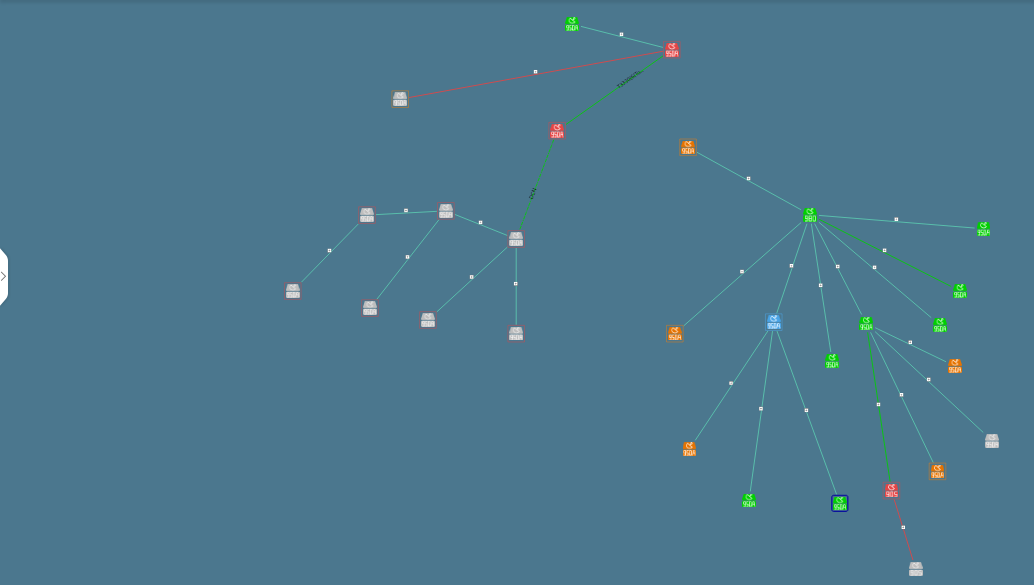ATN_Orange: (682, 141, 700, 158)
ATN_Red: (662, 44, 679, 61)
Link_Blue: (682, 218, 801, 323), (779, 347, 842, 493), (869, 335, 929, 454), (301, 221, 402, 288), (906, 359, 990, 436), (695, 335, 759, 433), (811, 225, 868, 320), (701, 154, 798, 207), (746, 335, 777, 494), (436, 244, 504, 310), (818, 218, 889, 281), (378, 218, 438, 291), (772, 225, 809, 314), (301, 225, 354, 278), (811, 246, 835, 351), (884, 328, 945, 365), (585, 24, 659, 45), (456, 212, 502, 233), (898, 218, 973, 226)
Link_Green: (565, 57, 658, 123), (842, 231, 948, 284), (863, 335, 890, 482), (520, 141, 557, 217)
Link_Red: (410, 50, 646, 97), (889, 496, 919, 566)
RTN_Green: (824, 354, 842, 372), (953, 283, 971, 301), (740, 496, 756, 514), (934, 322, 952, 331), (863, 315, 872, 333)
